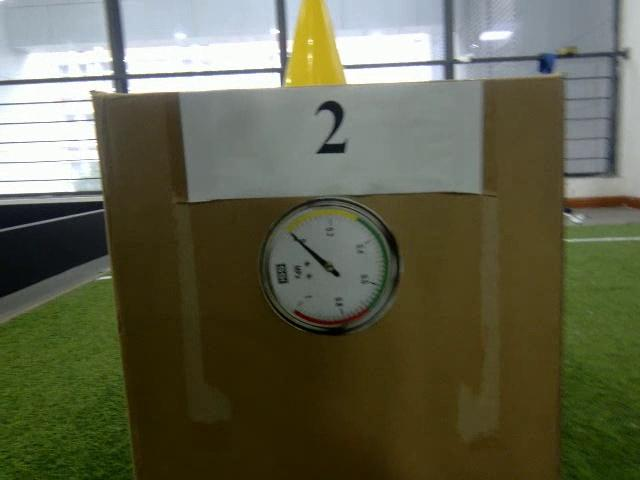2: (314, 98, 351, 155)
Dashboard: (257, 199, 401, 338)
ssi: (273, 262, 290, 287)
yellow_barrel: (281, 2, 345, 85)
